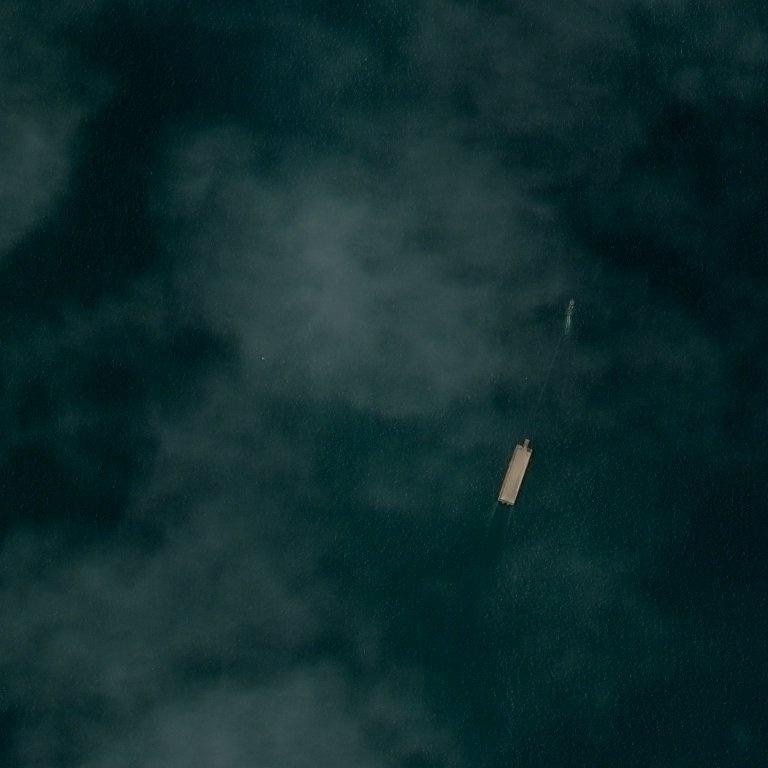ship: (568, 297, 572, 313), (524, 438, 529, 447), (510, 501, 515, 506), (497, 496, 500, 501), (571, 298, 574, 302), (570, 74, 574, 76), (492, 465, 538, 465), (568, 304, 568, 304)
